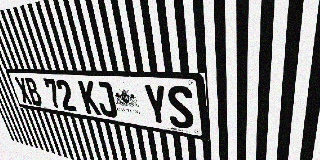2: (55, 79, 77, 112)
7: (42, 78, 64, 110)
B: (23, 77, 44, 106)
J: (93, 81, 118, 118)
K: (78, 80, 101, 116)
S: (166, 85, 195, 130)
X: (14, 77, 33, 105)
Y: (142, 84, 170, 126)
